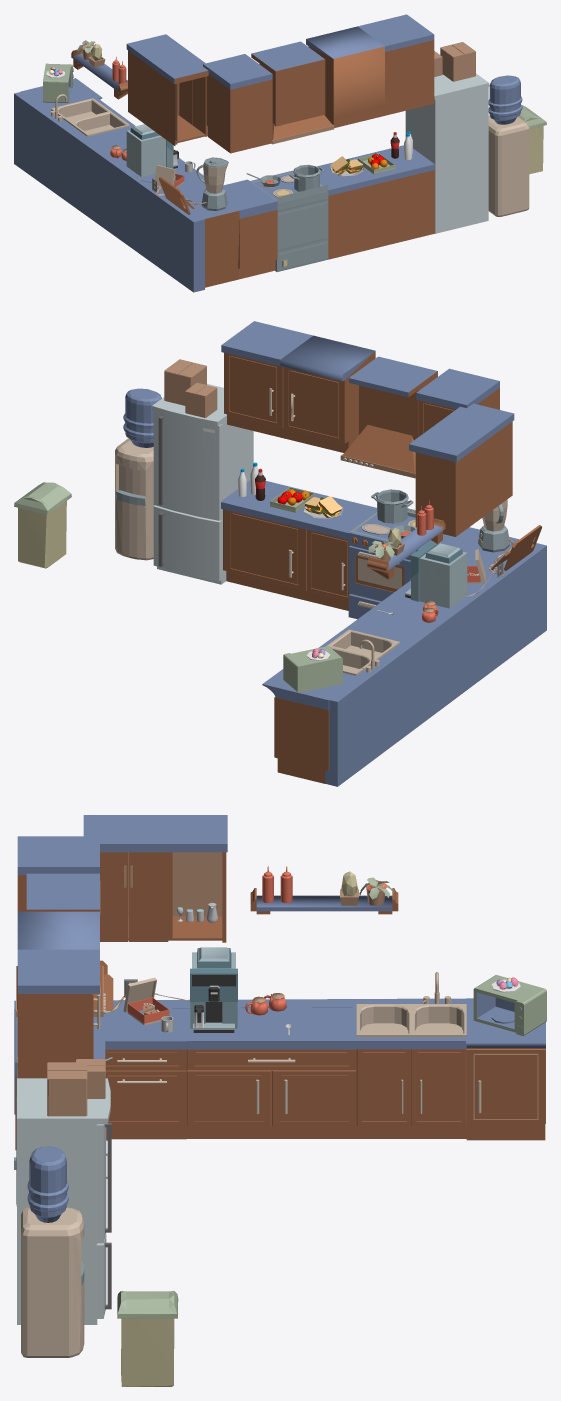
The model's file is kitchen_colored_v2 1.fbx.
3 renders of one model, top to bottom at view 1: azimuth 30°, elevation 25°; view 2: azimuth 150°, elevation 25°; view 3: azimuth 270°, elevation 25°, orthographic. The views are drawn at different scales.
Visible parts, largest first — view 1: long_blue_thing, fridge_001, desk_1_alternative, Prop_KitchenCabinet_02_F, Prop_KitchenCabinet_02_F__1___2_, Prop_KitchenCabinet_02_F__1___1__1, Prop_WaterDispenser, Prop_KitchenCabinet_02_F__1___1_, Stove, Cube, Prop_KitchenCabinet_02_E, Prop_KitchenCabinet_02_F__1_ (+15 smaller); view 2: long_blue_thing, fridge_001, desk_1_alternative, Prop_KitchenCabinet_02_F, Prop_KitchenCabinet_02_F__1___1__1, Prop_KitchenCabinet_02_F__1___1_, Prop_WaterDispenser, Prop_KitchenCabinet_02_E__1_, Cube, Prop_KitchenCabinet_02_F__1_, Stove, Prop_TrashCan_04 (+14 smaller); view 3: Prop_KitchenCabinet_02_I, desk_1_alternative, Prop_KitchenSink, fridge_001, Prop_WaterDispenser, Prop_KitchenCabinet_02_H, Prop_KitchenCabinet_02_F__1___1_, Prop_KitchenCabinet_02_E__1_, Prop_TrashCan_04, coffee_machine_001, Prop_KitchenCabinet_02_F__1___2_, Prop_KitchenCabinet_02_F__1___1__1 (+7 smaller).
Part boxes in pixels (<box>): long_blue_thing: <box>14,91,204,292</box>; fridge_001: <box>405,73,489,233</box>; desk_1_alternative: <box>126,34,208,145</box>; Prop_KitchenCabinet_02_F: <box>346,145,434,250</box>; Prop_KitchenCabinet_02_F__1___2_: <box>203,54,272,153</box>; Prop_KitchenCabinet_02_F__1___1__1: <box>306,26,384,127</box>; Prop_WaterDispenser: <box>488,75,529,216</box>; Prop_KitchenCabinet_02_F__1___1_: <box>358,14,434,115</box>; Stove: <box>250,170,328,271</box>; Cube: <box>251,41,325,126</box>; Prop_KitchenCabinet_02_E: <box>222,179,277,279</box>; Prop_KitchenCabinet_02_F__1_: <box>316,162,365,259</box>; long_blue_thing: <box>324,543,546,786</box>; fridge_001: <box>152,384,253,584</box>; desk_1_alternative: <box>409,403,514,536</box>; Prop_KitchenCabinet_02_F: <box>221,480,336,601</box>; Prop_KitchenCabinet_02_F__1___1__1: <box>280,335,375,452</box>; Prop_KitchenCabinet_02_F__1___1_: <box>221,321,312,438</box>; Prop_WaterDispenser: <box>115,388,161,560</box>; Prop_KitchenCabinet_02_E__1_: <box>262,669,360,783</box>; Cube: <box>349,356,437,440</box>; Prop_KitchenCabinet_02_F__1_: <box>304,498,376,610</box>; Stove: <box>348,508,416,619</box>; Prop_TrashCan_04: <box>14,482,71,568</box>; Prop_KitchenCabinet_02_I: <box>186,1007,356,1138</box>; desk_1_alternative: <box>83,815,227,942</box>; Prop_KitchenSink: <box>356,1004,466,1138</box>; fridge_001: <box>17,1078,111,1324</box>; Prop_WaterDispenser: <box>21,1146,84,1357</box>; Prop_KitchenCabinet_02_H: <box>97,1008,186,1139</box>; Prop_KitchenCabinet_02_F__1___1_: <box>17,949,100,1078</box>; Prop_KitchenCabinet_02_E__1_: <box>466,1003,545,1140</box>; Prop_TrashCan_04: <box>117,1291,178,1386</box>; coffee_machine_001: <box>129,947,237,1032</box>; Prop_KitchenCabinet_02_F__1___2_: <box>17,836,100,914</box>; Prop_KitchenCabinet_02_F__1___1__1: <box>17,911,99,949</box>.
Bounding box in the file's own units: 744 × 364 × 583.
